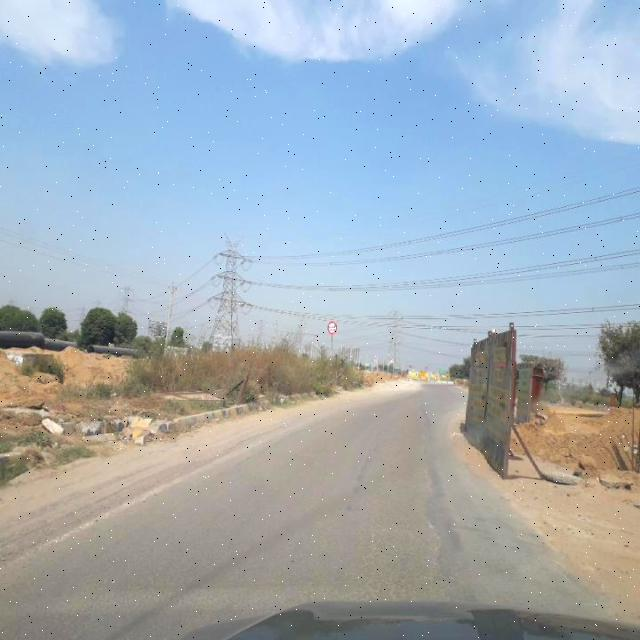D20: (359, 516, 450, 600)
D44: (2, 474, 189, 568)
